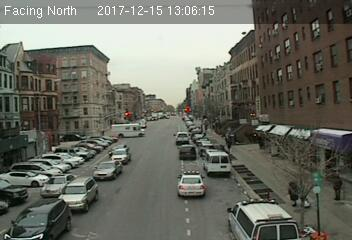car: (1, 198, 73, 240), (59, 178, 100, 212), (202, 148, 235, 176), (41, 174, 76, 197), (93, 161, 123, 179), (110, 148, 131, 164), (178, 145, 198, 161), (173, 132, 191, 146)
pedestrian: (286, 180, 302, 209)
police: (224, 198, 304, 240), (177, 170, 207, 200)
